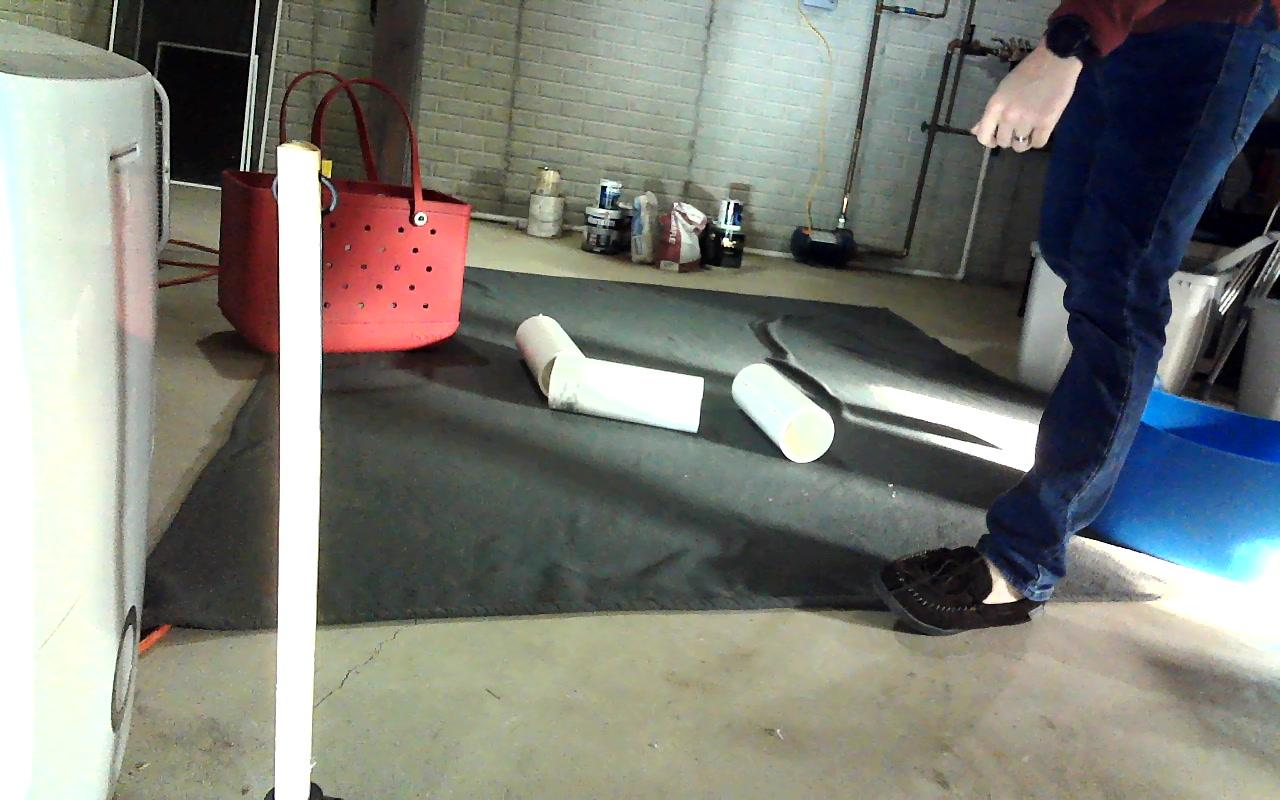coral: (570, 357, 705, 434), (731, 363, 834, 463), (515, 316, 587, 401)
